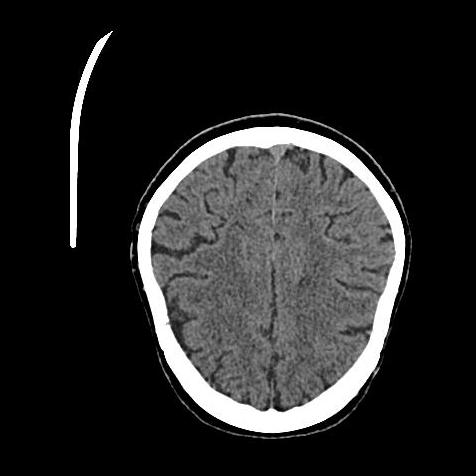Normal_Brain: (128, 108, 407, 445)
